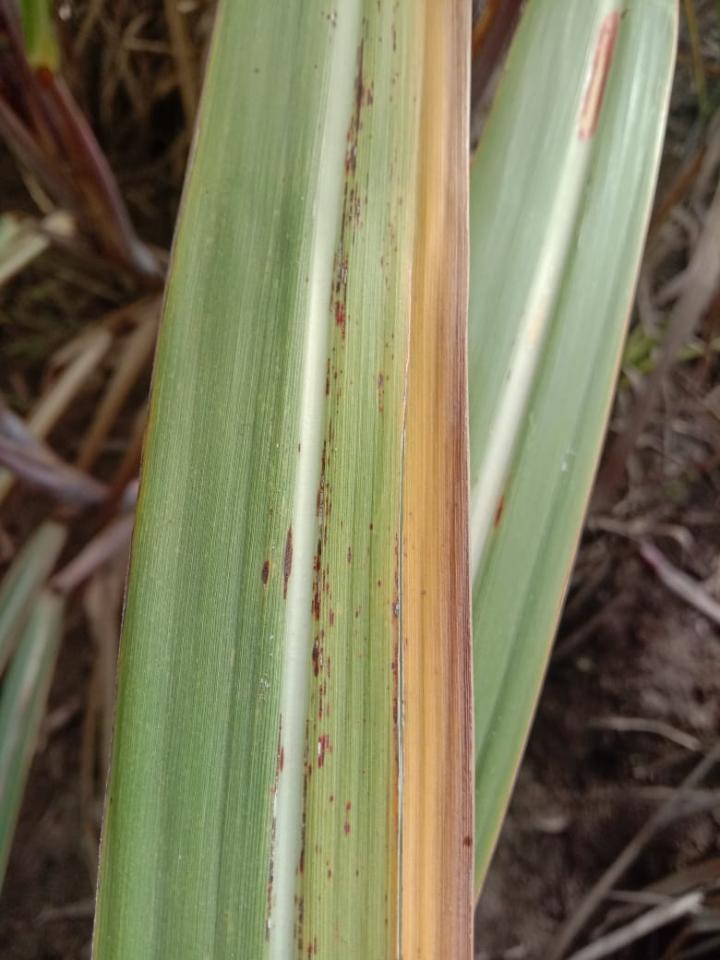RedRot: (576, 10, 619, 143)
Rust: (329, 182, 369, 341), (343, 39, 375, 179), (266, 711, 285, 942), (311, 436, 333, 621), (294, 719, 312, 877), (312, 629, 331, 679), (390, 531, 400, 621), (282, 523, 293, 601), (391, 642, 399, 724), (293, 894, 304, 952), (377, 371, 391, 414), (317, 733, 332, 768), (493, 492, 505, 531), (318, 678, 327, 722), (260, 561, 270, 592), (325, 357, 332, 396), (307, 936, 317, 959), (326, 10, 338, 29), (391, 21, 397, 53), (336, 386, 343, 413), (328, 418, 335, 444), (329, 607, 335, 628), (344, 820, 351, 836), (314, 844, 322, 856), (355, 605, 362, 618), (347, 547, 352, 562), (327, 868, 333, 878), (346, 800, 352, 810), (377, 0, 381, 14), (384, 894, 388, 904), (317, 895, 322, 903), (369, 524, 374, 532), (330, 794, 334, 802), (384, 917, 388, 925), (355, 870, 359, 878), (391, 354, 395, 362), (391, 332, 395, 340), (334, 371, 338, 379), (298, 443, 301, 453), (339, 369, 344, 374), (406, 638, 409, 646), (378, 580, 381, 587), (325, 860, 328, 866), (385, 342, 388, 348)
Yellow: (400, 0, 447, 958)
